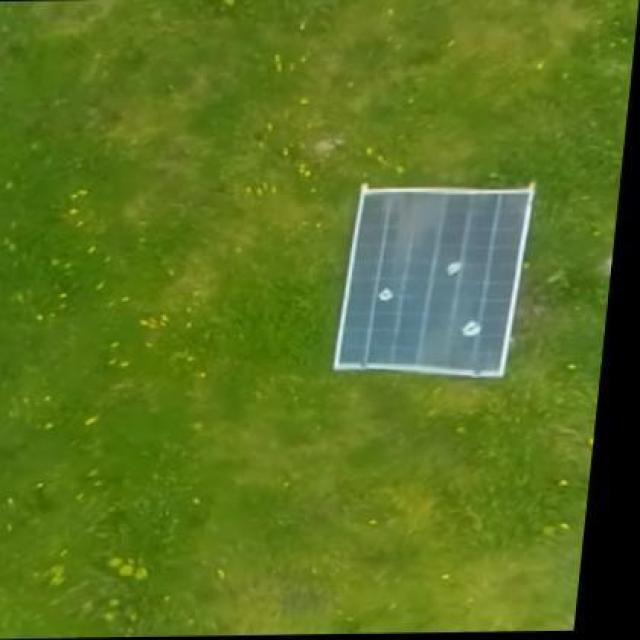soiled: (334, 180, 535, 380)
